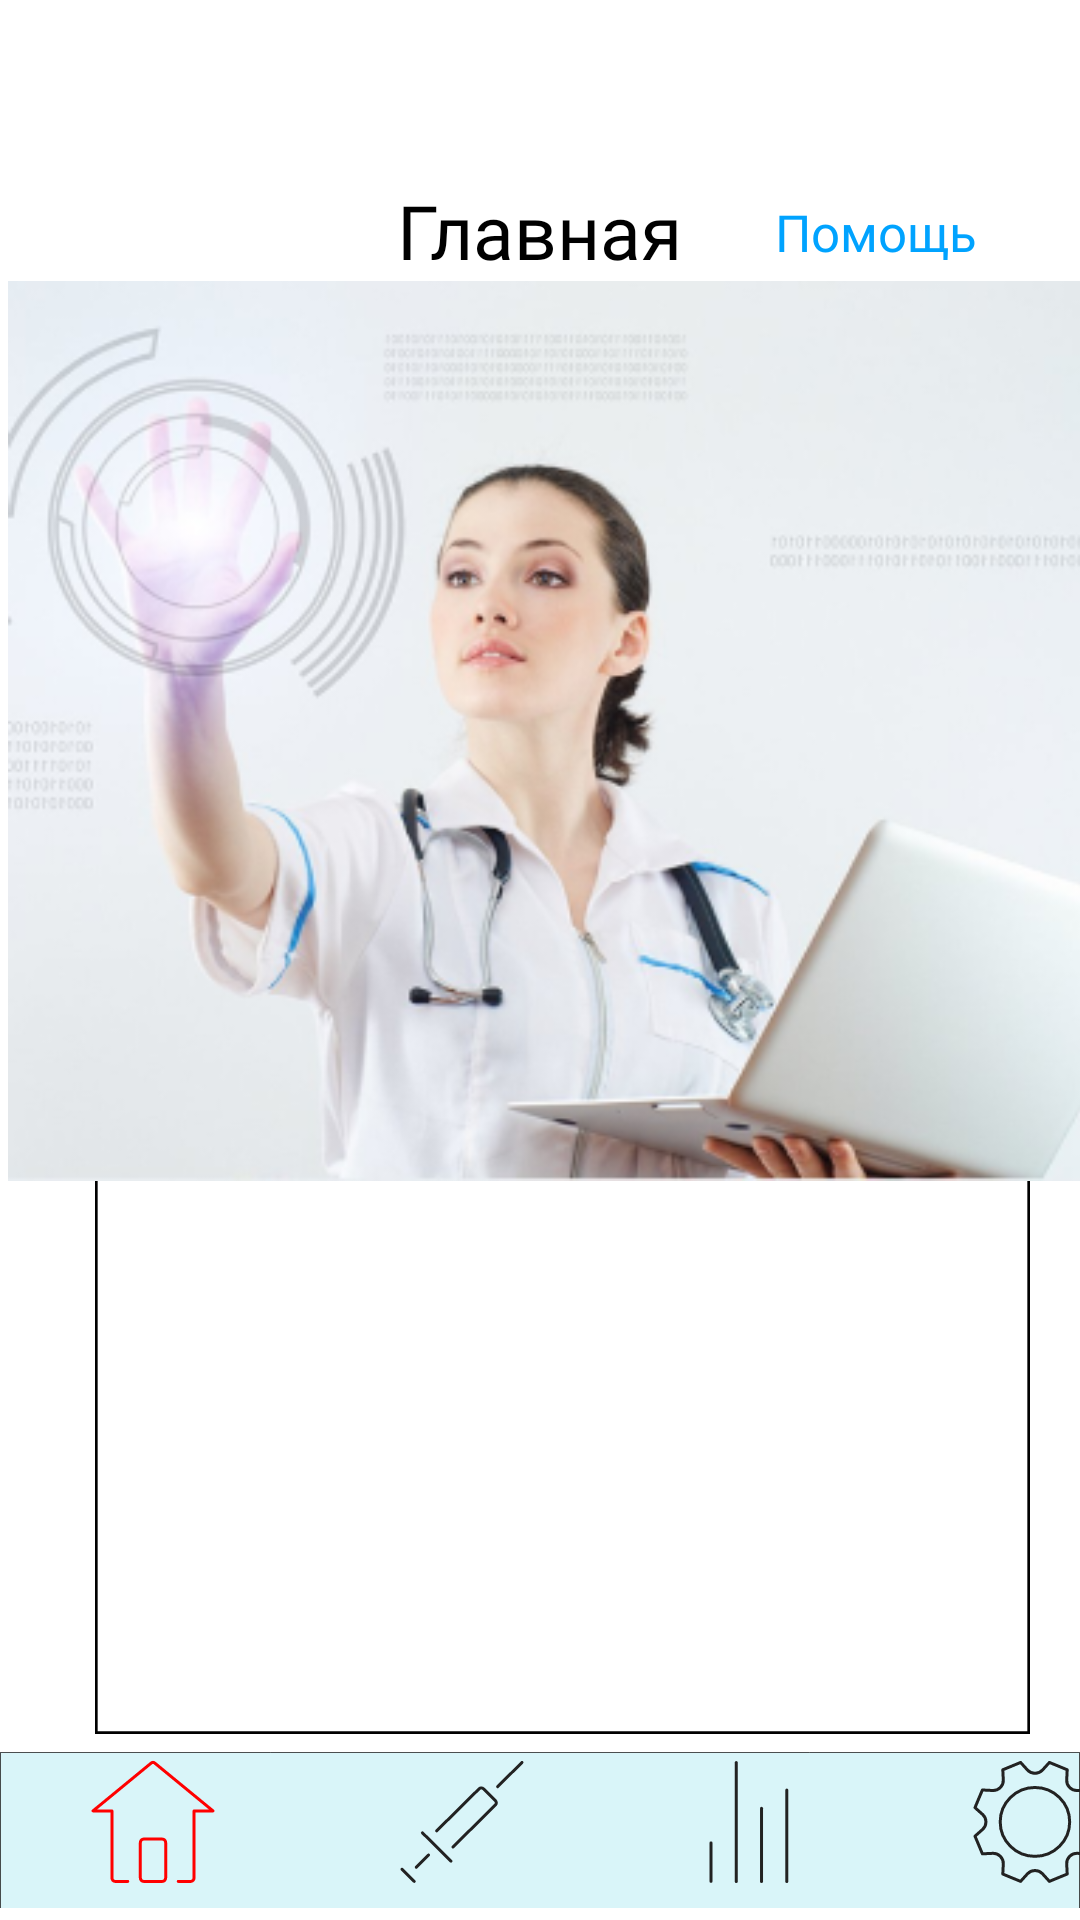

Icon click points for this 1080px x 1920px phone screenshot, format (x=x, y=y):
bar graph: (x=749, y=1822)
home: (x=153, y=1822)
